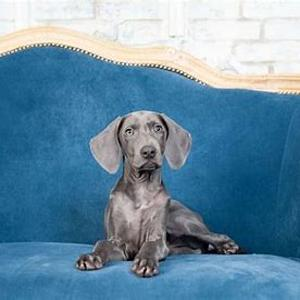dog: (94, 113, 237, 268)
